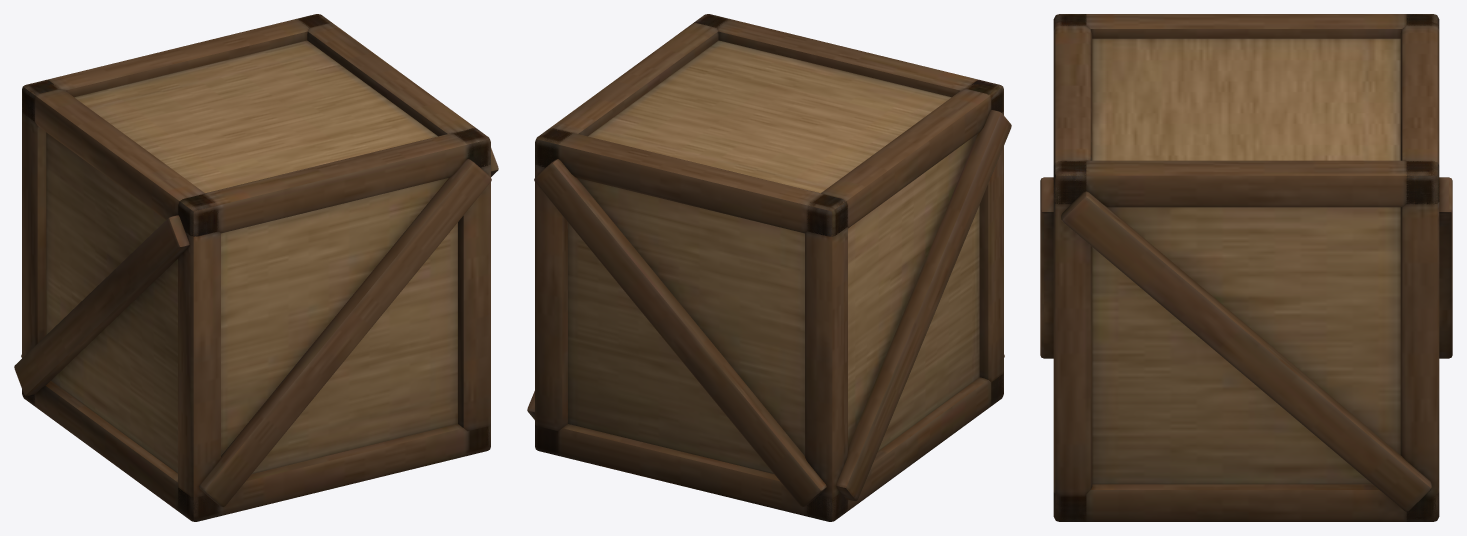
File: crate.glb
3 views of the same model, side by side, from view 1: azimuth 30°, elevation 25°; view 2: azimuth 150°, elevation 25°; view 3: azimuth 270°, elevation 25° (orthographic). The views are drawn at different scales.
Visible parts, largest first — view 1: crate; view 2: crate; view 3: crate.
Part boxes in pixels (x1,y1,x2,y2): crate: (14,14,498,521); crate: (527,14,1011,521); crate: (1040,14,1452,521).
Bounding box in the file's own units: 1.07 × 1 × 1.07.
Materials: 1 (1 with a texture image).
